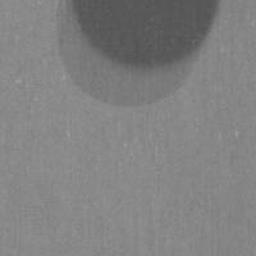Oil spot: (54, 0, 225, 109)
